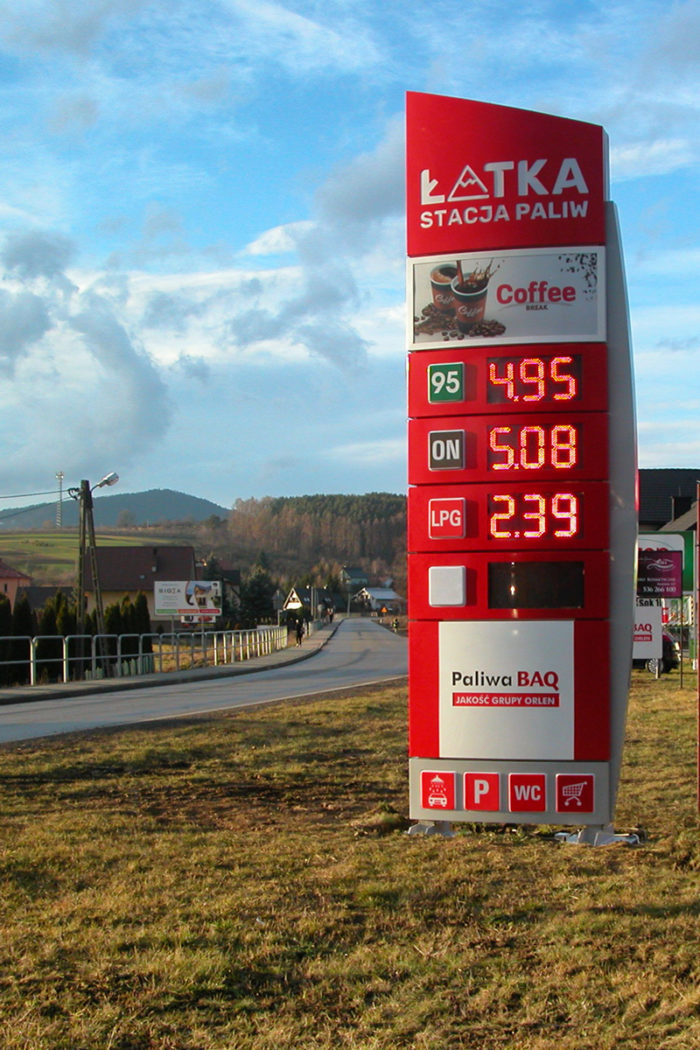LPG: (425, 493, 469, 540)
ON: (424, 423, 467, 475)
PB95: (422, 358, 469, 406)
